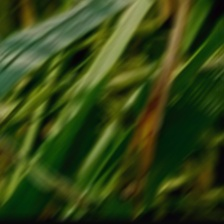Leaf_Blast: (118, 0, 202, 198)
